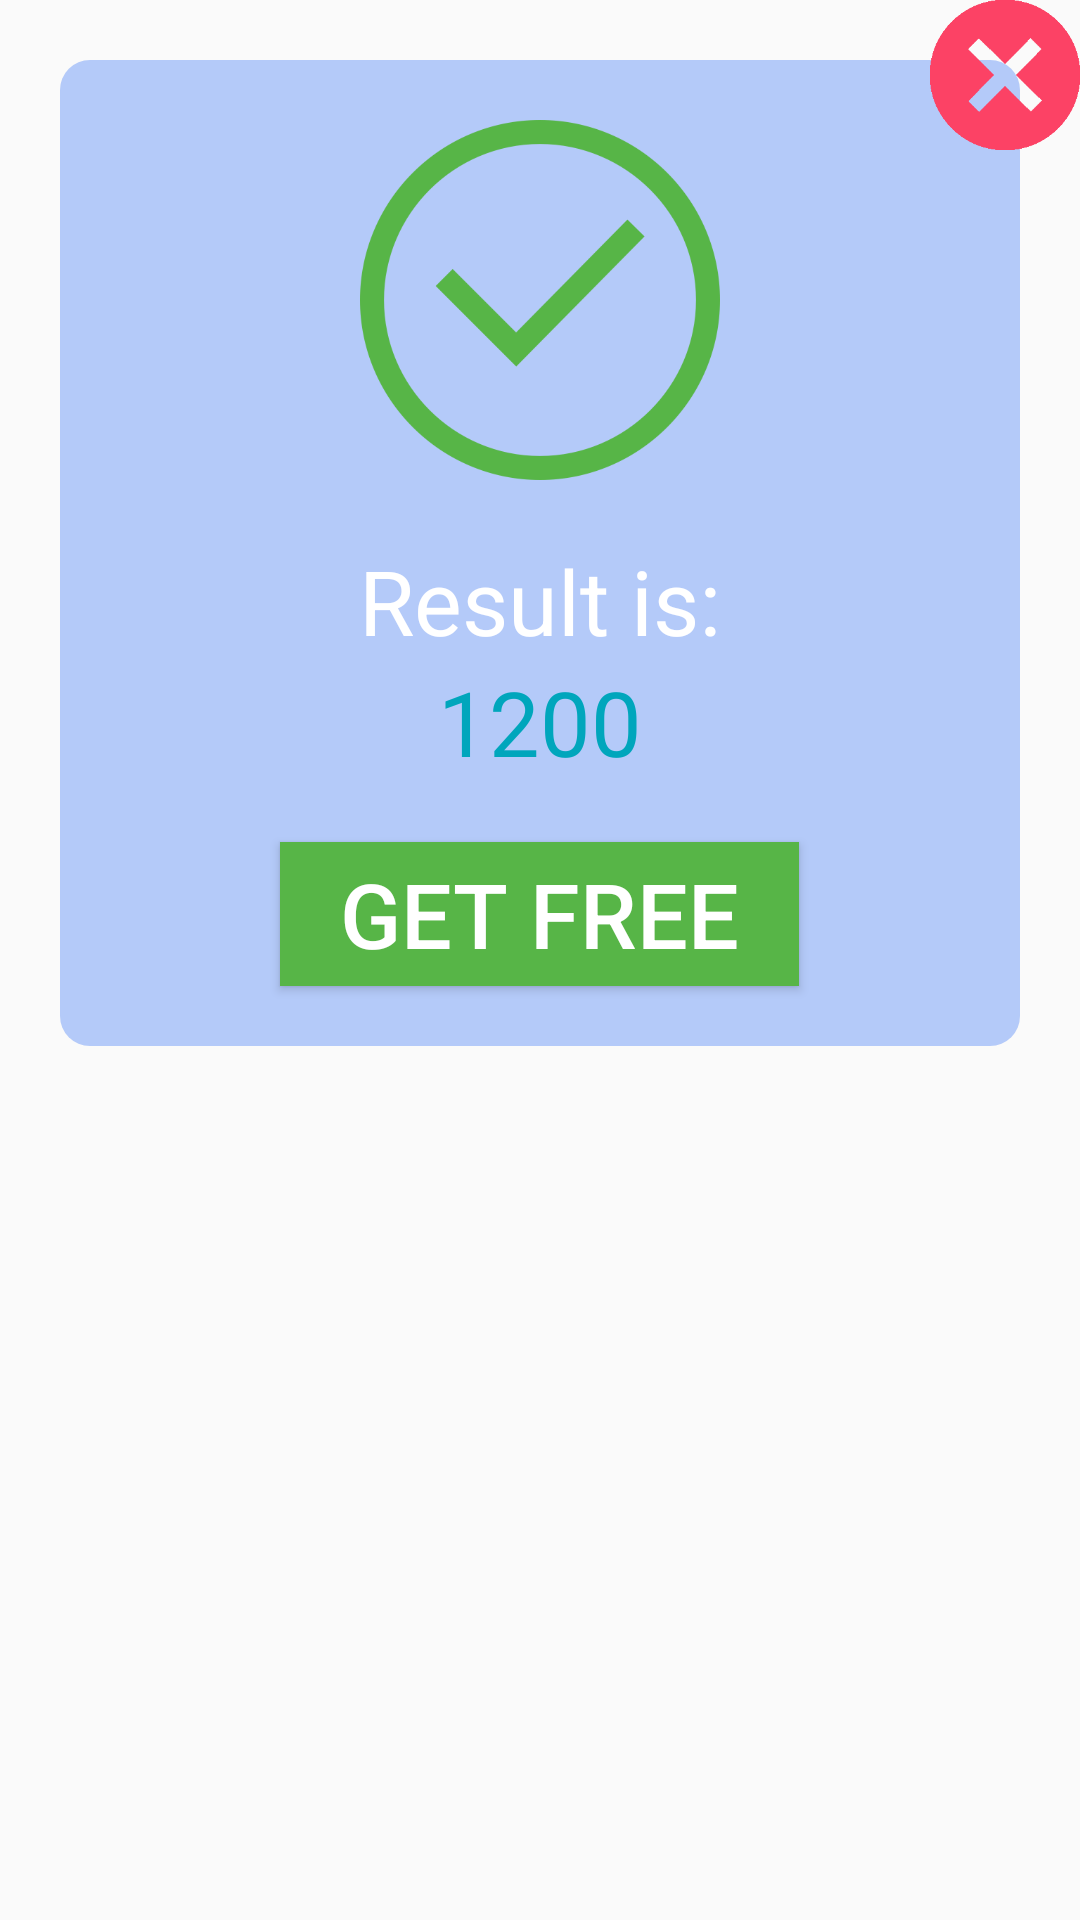

Screen size 1080×1920. Icon name, then its box in pixels as box(x1, y1, x2, y2):
close: box(930, 0, 1080, 150)
true: box(360, 120, 720, 480)
